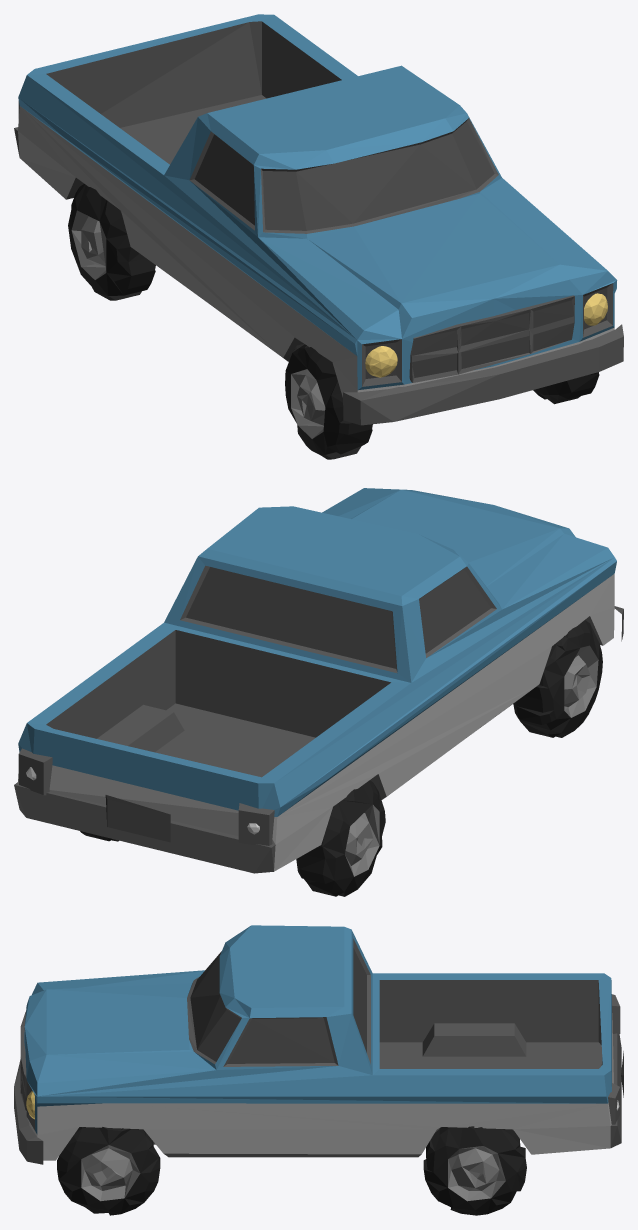
Rendered from pickup-truck-neutral.glb.
3 views of the same model, one above another, from view 1: azimuth 30°, elevation 25°; view 2: azimuth 150°, elevation 25°; view 3: azimuth 270°, elevation 25° (orthographic). The views are drawn at different scales.
Parts seen in each view (by area): view 1: BackWheels, Pickup; view 2: BackWheels; view 3: BackWheels.
Part boxes in pixels (left/top/right/bottom): BackWheels: left=14, top=14, right=623, bottom=459; Pickup: left=365, top=293, right=607, bottom=377; BackWheels: left=14, top=488, right=623, bottom=896; BackWheels: left=14, top=925, right=623, bottom=1215.
Bounding box in the file's own units: 2.31 × 1.85 × 5.18.
Materials: 2 (2 with a texture image).
